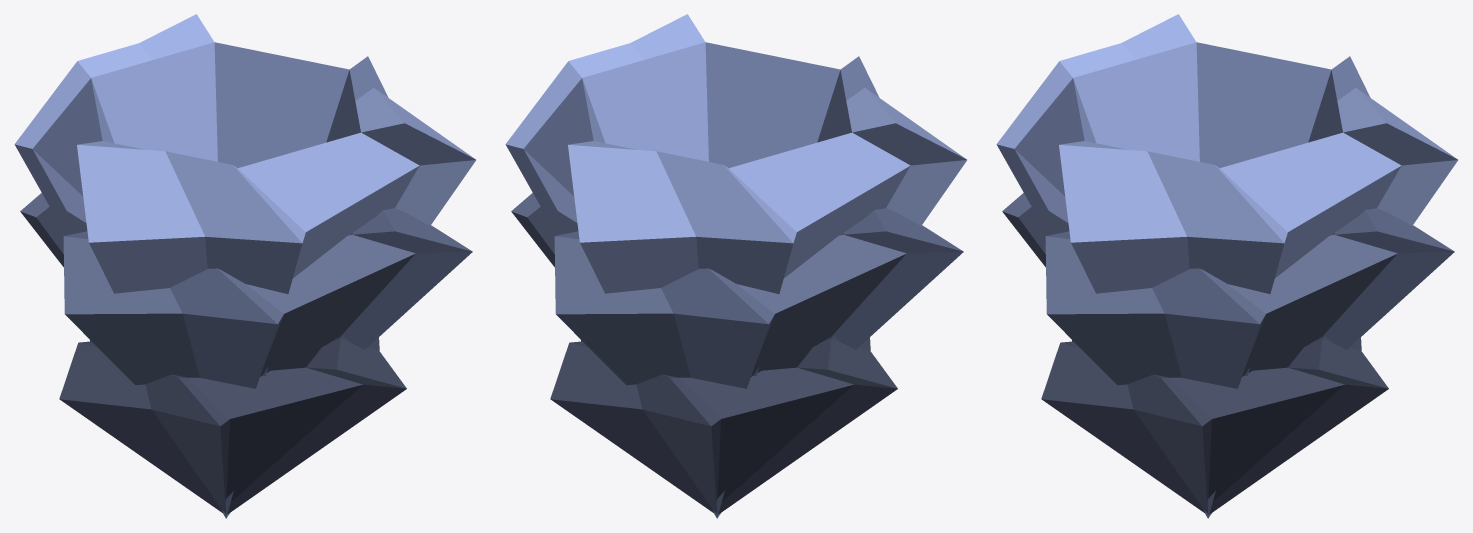
Rendered from WaterSprout.fbx.
The picture shows the model from 3 angles, left to right: view 1: azimuth 30°, elevation 25°; view 2: azimuth 150°, elevation 25°; view 3: azimuth 270°, elevation 25°; orthographic projection.
Parts seen in each view (by area): view 1: Water Spout.; view 2: Water Spout.; view 3: Water Spout..
Part boxes in pixels (<box>): Water Spout.: <box>14,14,475,518</box>; Water Spout.: <box>505,14,966,518</box>; Water Spout.: <box>996,14,1457,518</box>.
Bounding box in the file's own units: 199 × 209 × 206.
